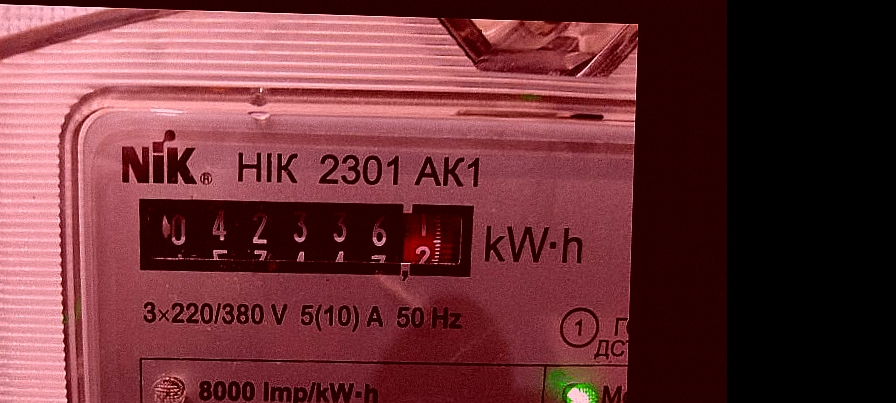0: (167, 210, 188, 246)
1: (415, 209, 429, 239)
2: (248, 209, 269, 246), (412, 243, 431, 265)
3: (289, 206, 309, 245), (327, 207, 348, 244)
4: (208, 205, 228, 242)
6: (366, 212, 389, 247)
screen: (128, 184, 483, 288)
